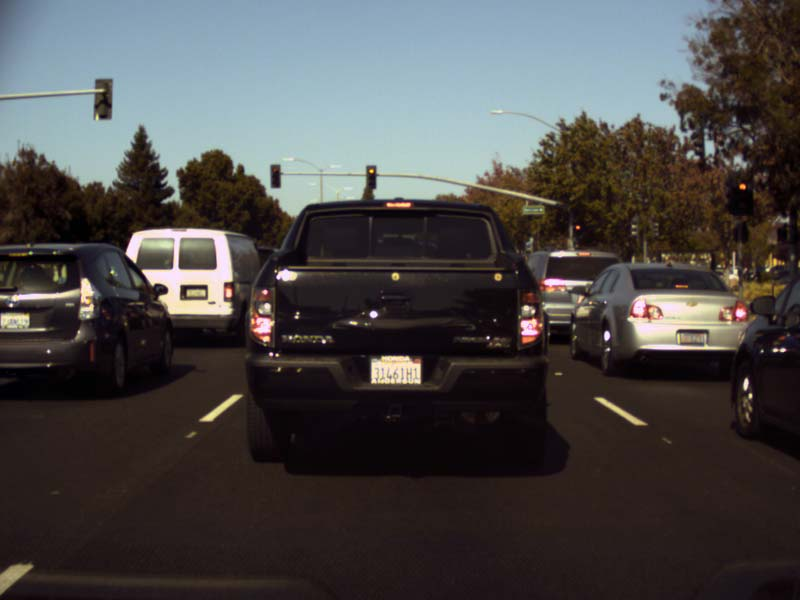Red: (732, 179, 754, 214), (269, 164, 280, 188), (366, 164, 375, 190)
Yellow: (574, 219, 583, 237)
